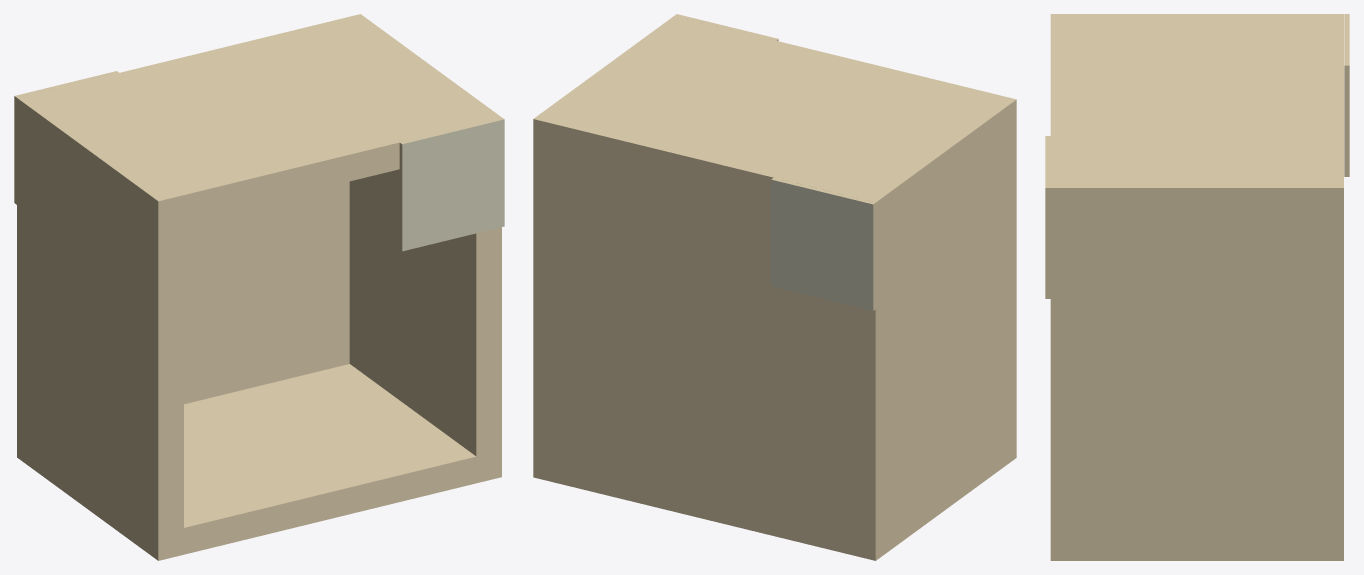
Rendered from dt_box_back.dae.
3 renders of one model, left to right at view 1: azimuth 30°, elevation 25°; view 2: azimuth 150°, elevation 25°; view 3: azimuth 270°, elevation 25°, orthographic. The views are drawn at different scales.
Visible parts, largest first — view 1: case11.012; view 2: case11.012; view 3: case11.012.
Boxes of the visible parts, x1,y1,x2,y2 form: case11.012: (14,14,504,560); case11.012: (533,14,1016,560); case11.012: (1045,14,1349,560).
Bounding box in the file's own units: 0.235 × 0.1736 × 0.235.
